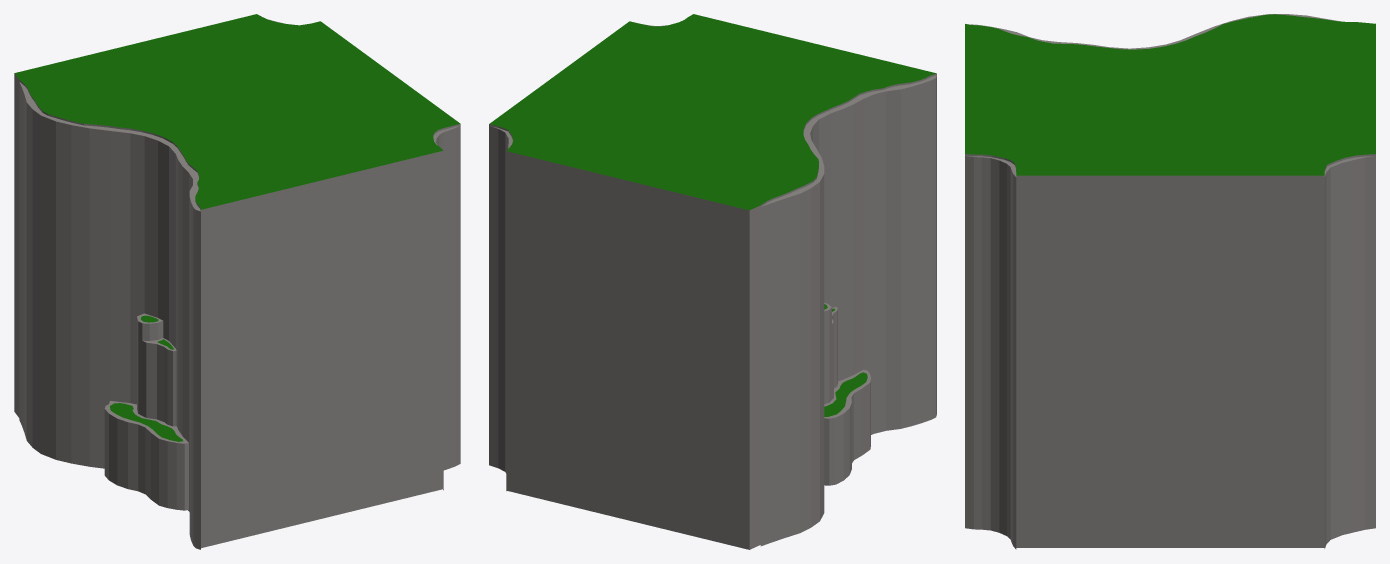
The model's file is DoubleMountainWedgePath.fbx.
The picture shows the model from 3 angles, left to right: view 1: azimuth 30°, elevation 25°; view 2: azimuth 150°, elevation 25°; view 3: azimuth 270°, elevation 25°; orthographic projection. The views are drawn at different scales.
Parts seen in each view (by area): view 1: Plane.012; view 2: Plane.012; view 3: Plane.012.
Boxes of the visible parts, bbox=[...] form: Plane.012: bbox=[14, 14, 460, 549]; Plane.012: bbox=[489, 14, 936, 549]; Plane.012: bbox=[965, 14, 1375, 549].
Bounding box in the file's own units: 94.21 × 101 × 100.
